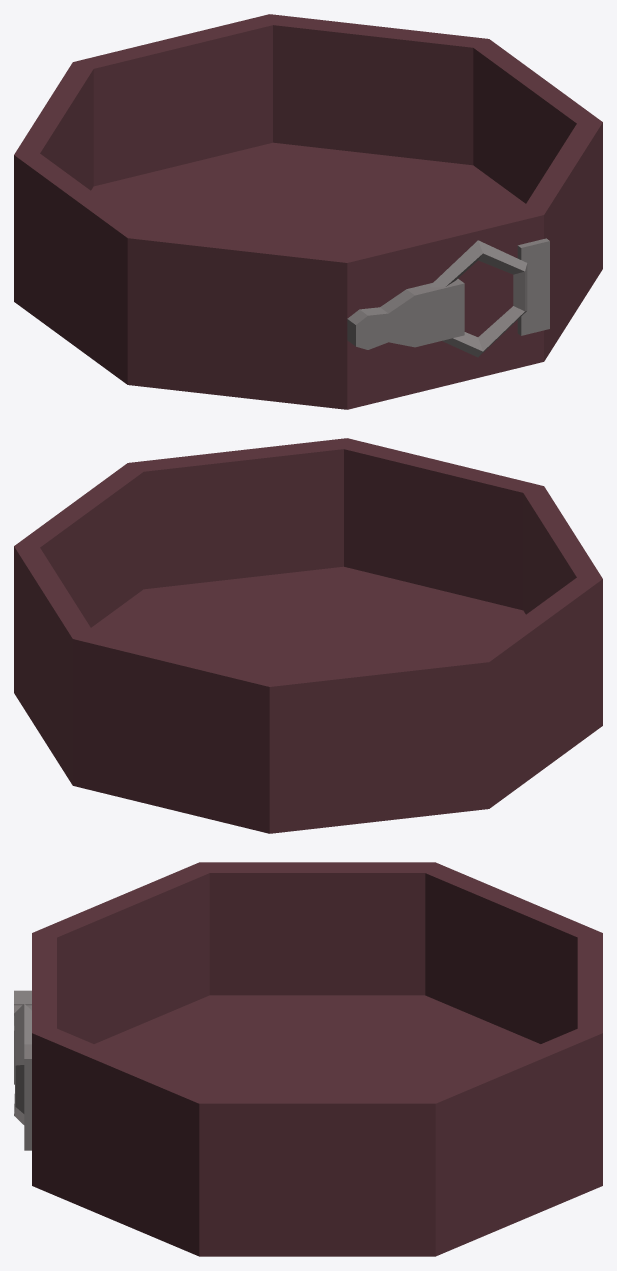
Rendered from dishes-springform.glb.
3 views of the same model, one above another, from view 1: azimuth 30°, elevation 25°; view 2: azimuth 150°, elevation 25°; view 3: azimuth 270°, elevation 25° (orthographic). The views are drawn at different scales.
Visible parts, largest first — view 1: springform; view 2: springform; view 3: springform.
Part boxes in pixels (x1,y1,x2,y2): springform: (14, 14, 602, 409); springform: (14, 438, 602, 833); springform: (14, 862, 602, 1256).
Bounding box in the file's own units: 0.2033 × 0.06 × 0.2096.
